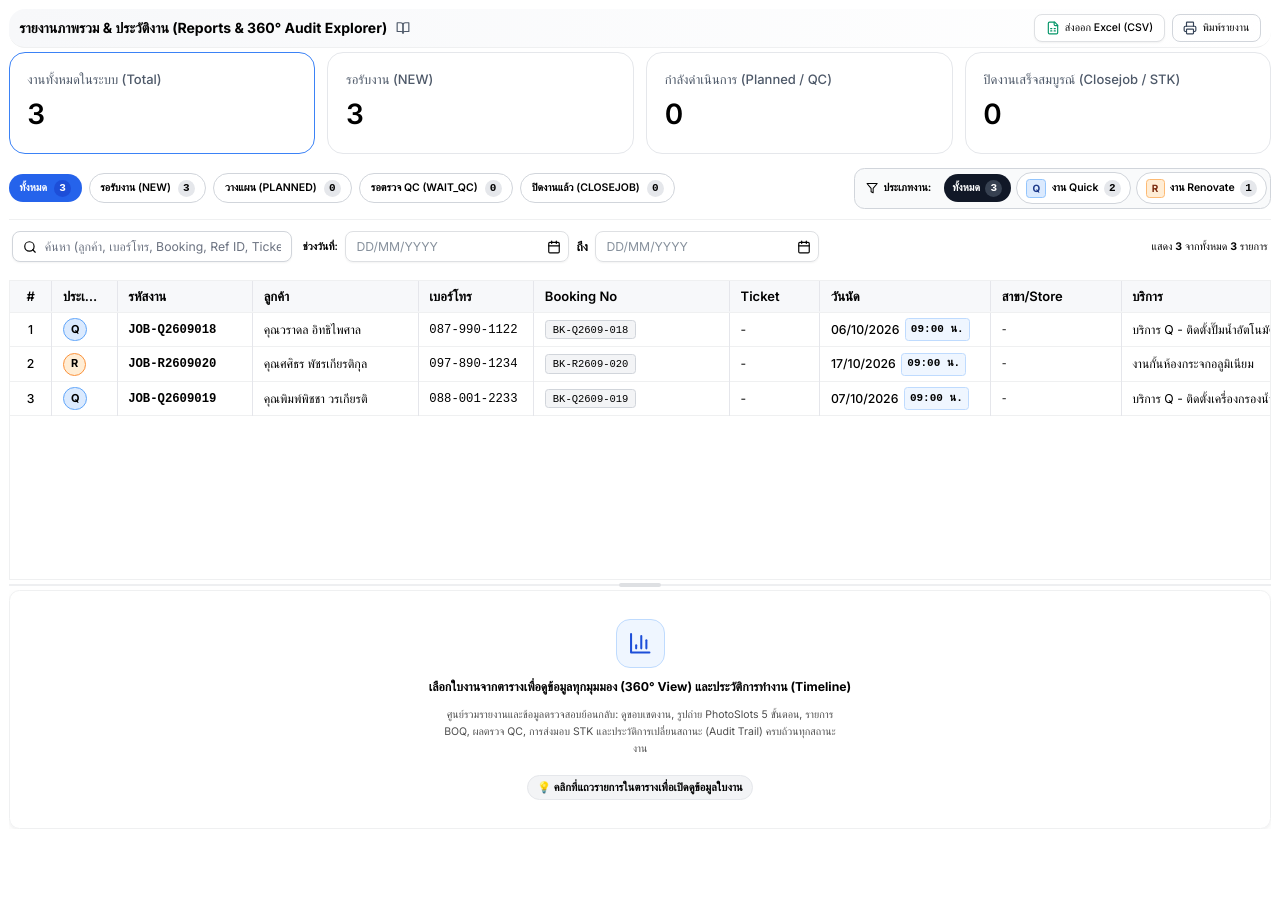
ReportsPage - Comprehensive 360° Job Report & Audit Explorer › filters table by job type (Quick vs Renovate)
Click the button "Q งาน Quick 2".
click(1073, 188)  # box [1016,172,1130,204]
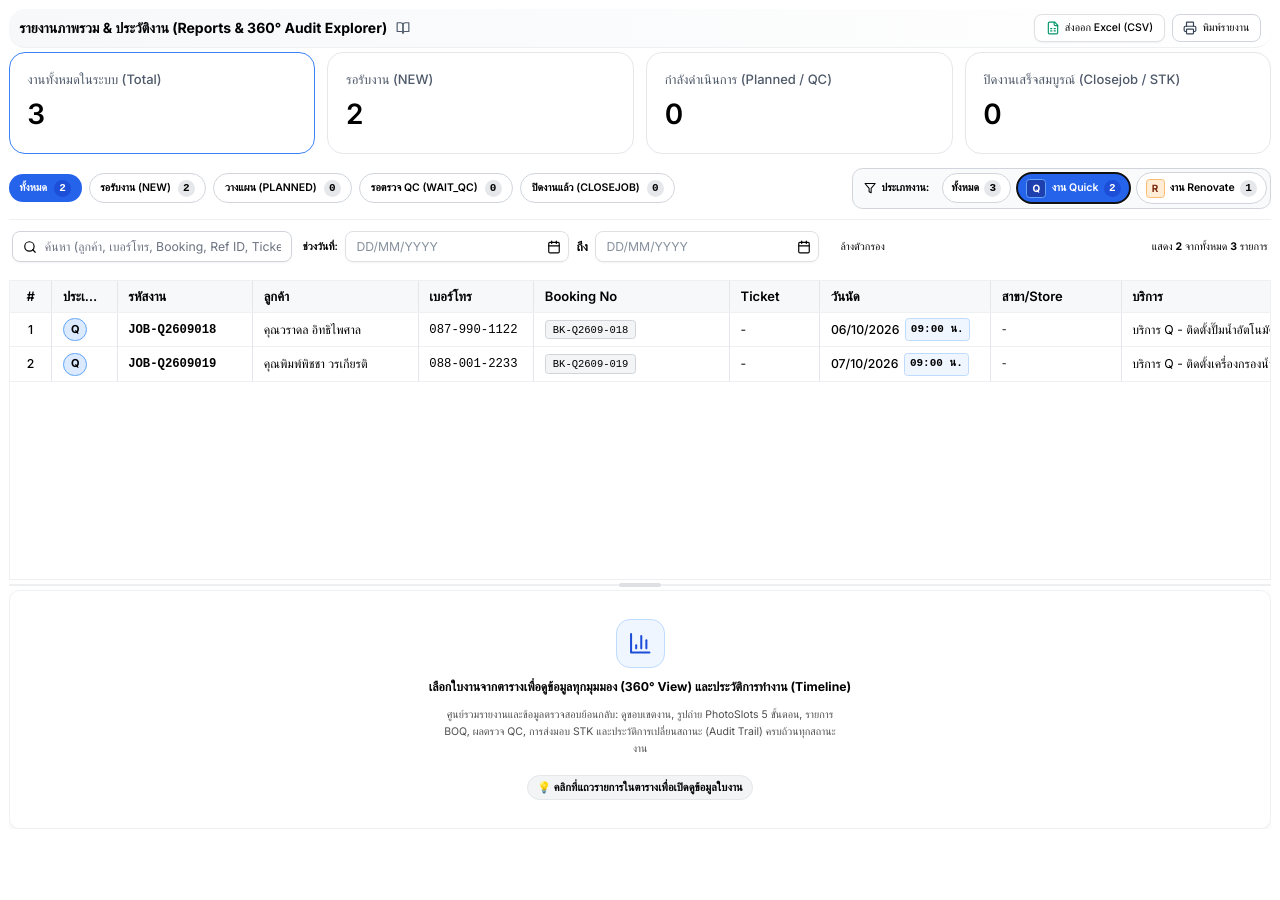
Check: the text "JOB-Q2609018" is shown, box [128,323,216,337]
Check: the text "JOB-R2609020" is gone
// Click Renovate
Click the button "R งาน Renovate 1".
click(1201, 188)  # box [1136,172,1267,204]
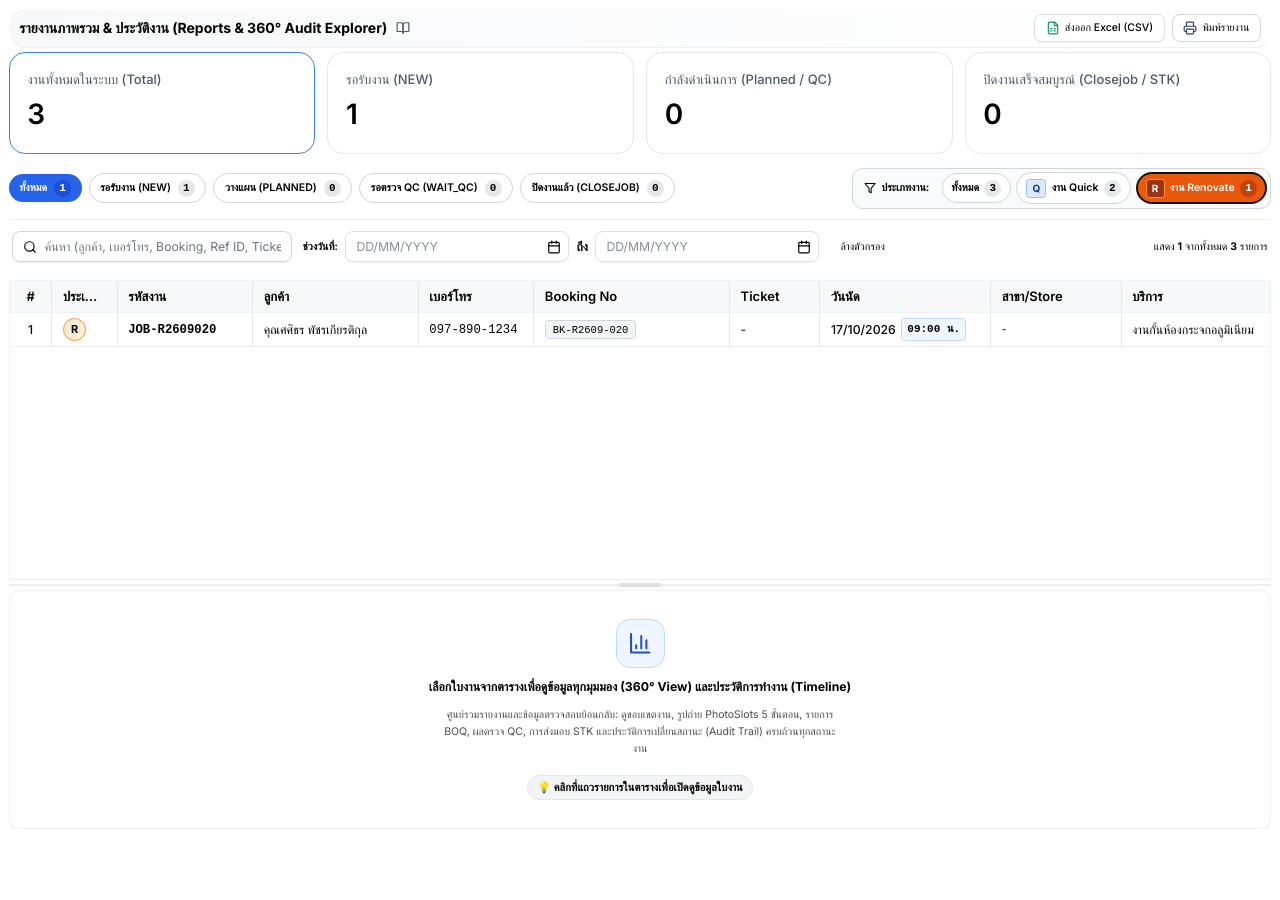
Check: the text "JOB-R2609020" is shown, box [128,323,216,337]
Check: the text "JOB-Q2609018" is gone
